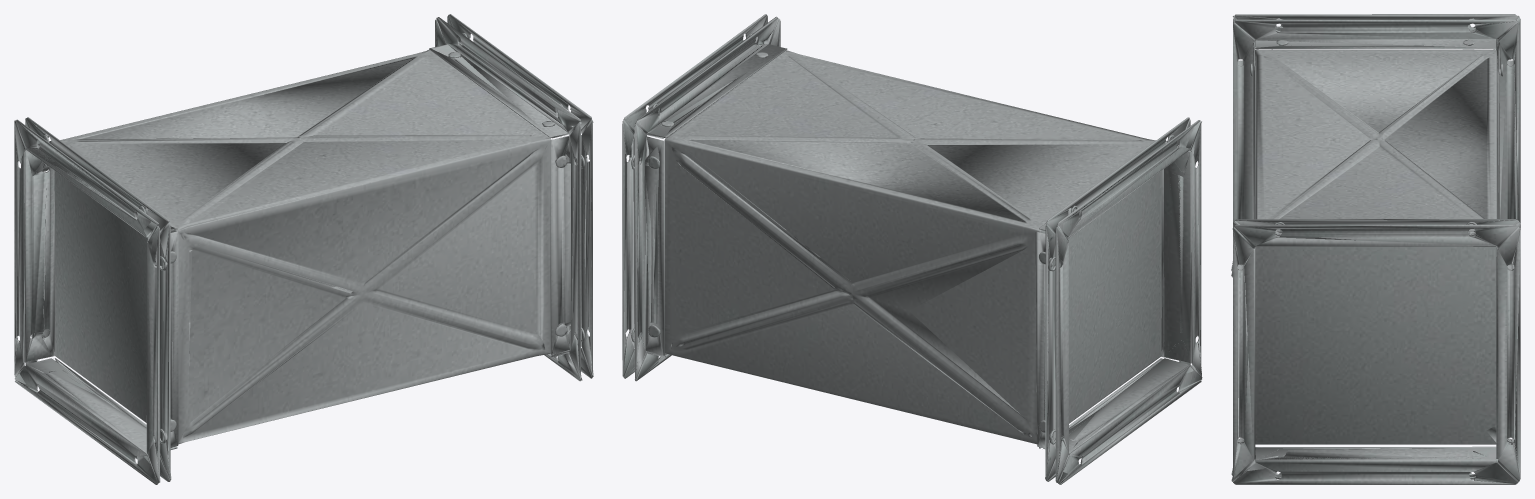
File: vent_duct_straight.glb
3 views of the same model, side by side, from view 1: azimuth 30°, elevation 25°; view 2: azimuth 150°, elevation 25°; view 3: azimuth 270°, elevation 25° (orthographic).
Size of the model in its own units: 0.9497 by 0.5454 by 0.5494.
1 material, 1 textured.
